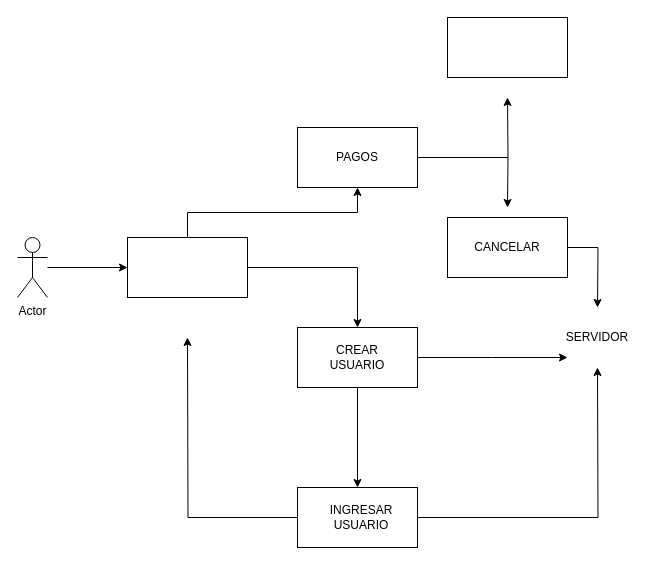
The diagram is 646 pixels wide and 565 high, and some of its shapes have lost their labels. The shapes that lost their labels are listed below. From the top down, each one's box as (x1, y1, x2, y2) in pixels, then its label:
(446, 16, 568, 78): ACEPTAR
(126, 236, 248, 298): PAGINA PRINCIPAL
